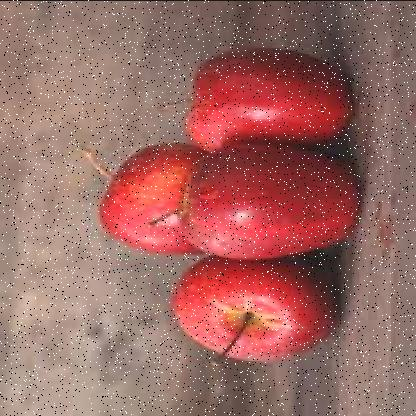apple: (174, 250, 336, 367), (190, 148, 352, 260), (188, 50, 352, 147), (102, 145, 216, 254)
